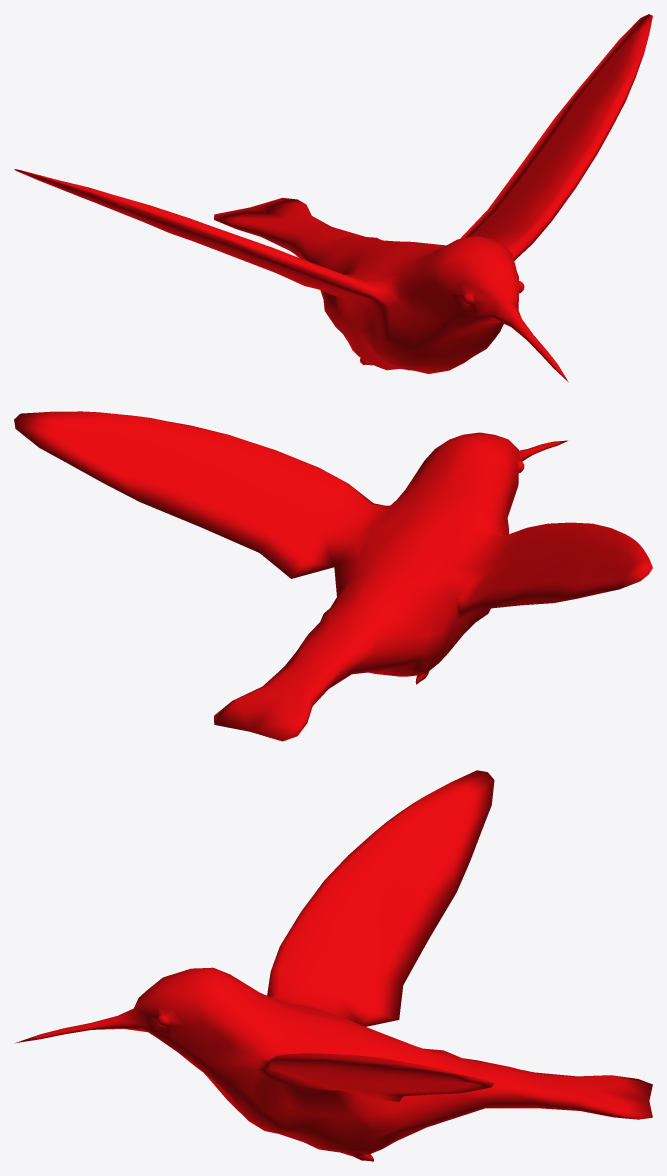
The model's file is bird.gltf.
3 views of the same model, one above another, from view 1: azimuth 30°, elevation 25°; view 2: azimuth 150°, elevation 25°; view 3: azimuth 270°, elevation 25° (orthographic).
Visible parts, largest first — view 1: HUMBIRD; view 2: HUMBIRD; view 3: HUMBIRD.
Part boxes in pixels (x1=…): HUMBIRD: x1=14, y1=14, x2=652, y2=382; HUMBIRD: x1=14, y1=411, x2=652, y2=741; HUMBIRD: x1=15, y1=770, x2=652, y2=1161.
Bounding box in the file's own units: 0.1007 × 0.0341 × 0.0882.
